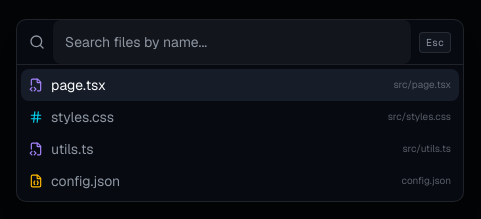
Test: FileSearch › shows no results message when query matches nothing
The image size is (481, 219).
Type "xyz" into the field with placeholder "Search files by name..." at (232,42), box [53,20,411,64]
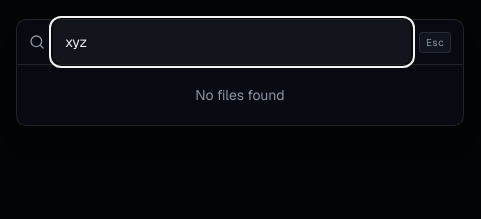
Expected: the text "No files found" is shown, [195,86,285,104]
